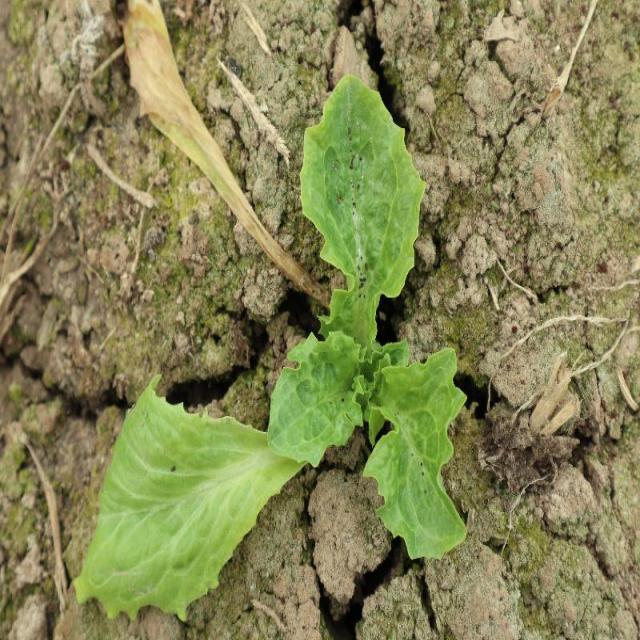crop: (78, 83, 469, 558)
